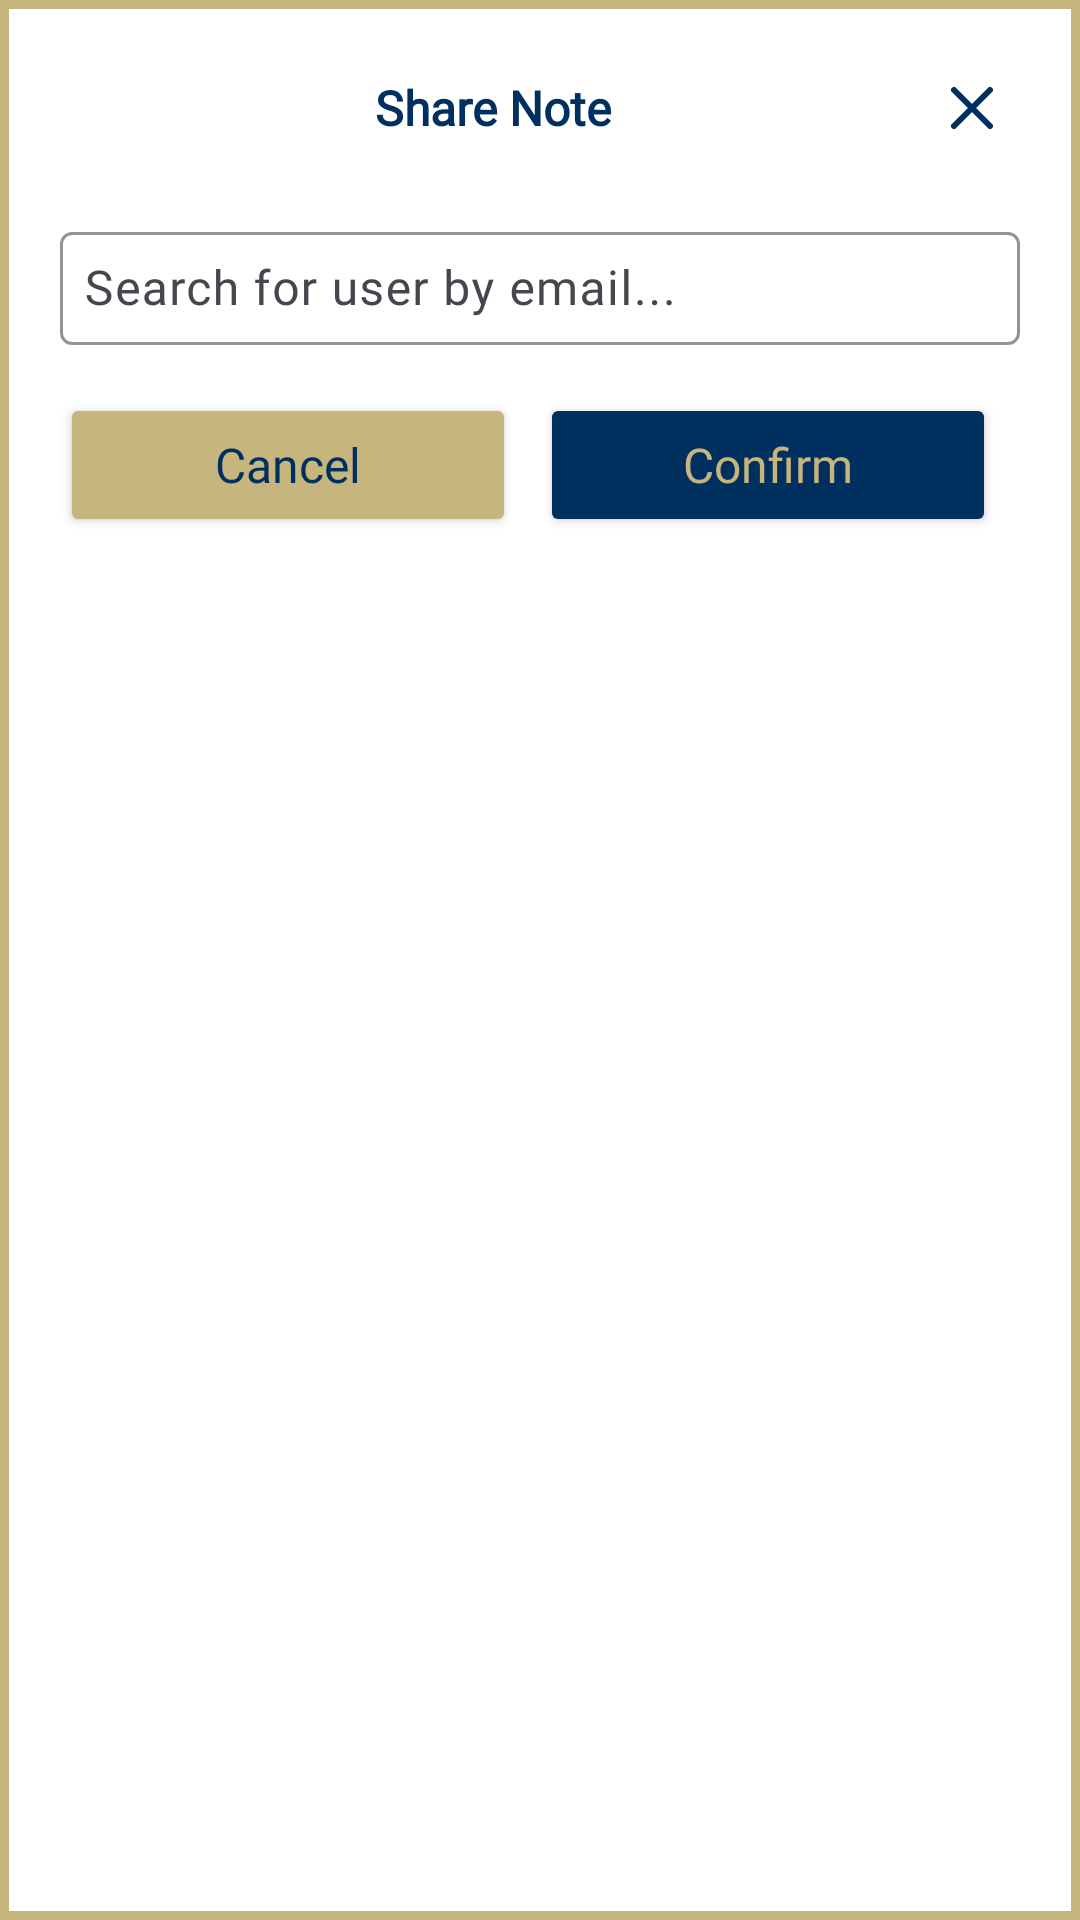

Screen size 1080 x 1920. Icon name, then its center in pixels as (x=x, y=y):
Close: (x=972, y=108)
